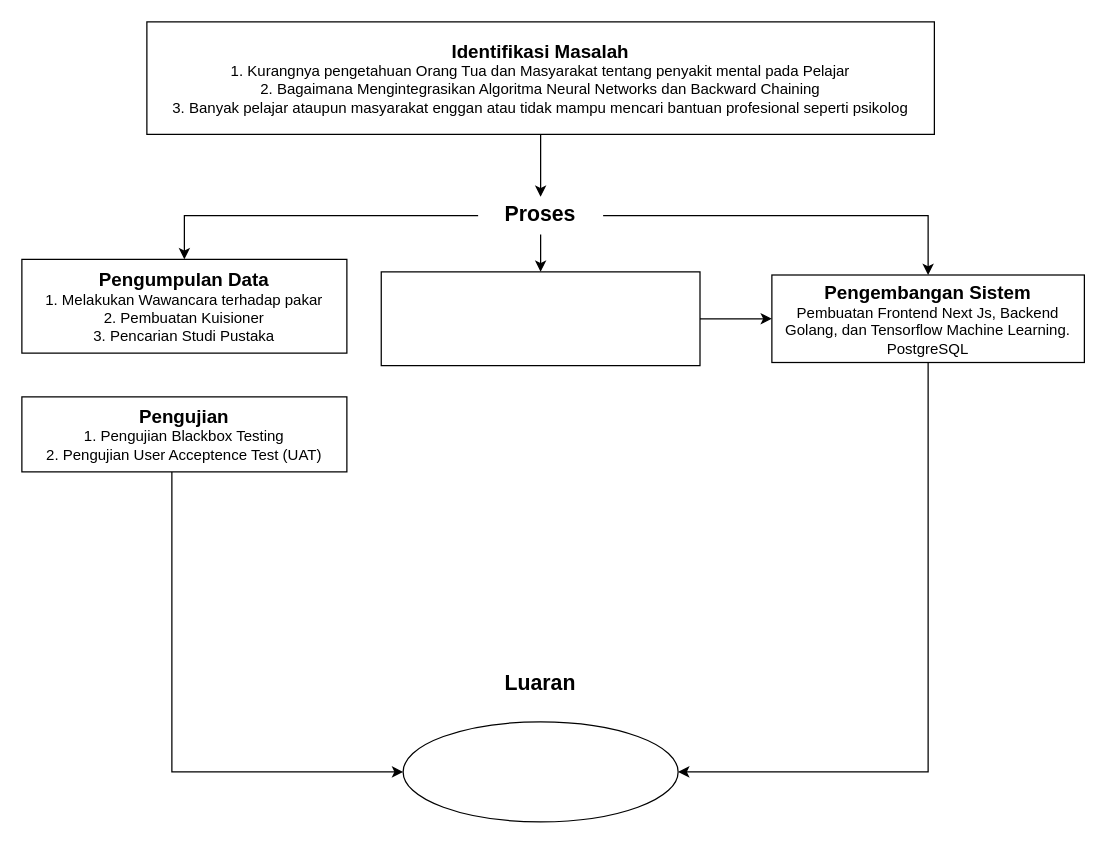
Image size: 1106x844. Some labels were removed from this diagram. The shapes that lost their labels are listed below. From the top down, each one's box as (x1, y1, x2, y2) in pixels, then its label:
(380, 271, 700, 366): Implementasi Algoritma Neural Network dan Backward Chaining
(402, 721, 678, 822): Aplikasi SIstem Pakar Mental Health
